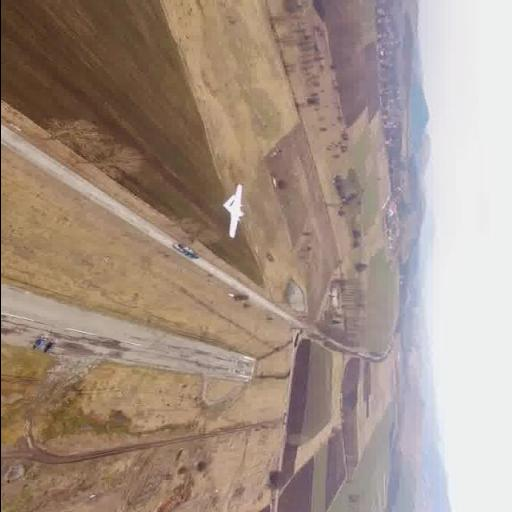uav: (214, 182, 257, 248)
